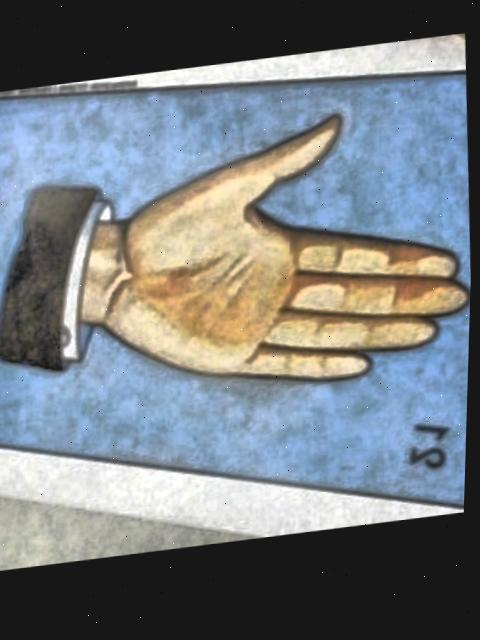La Mano: (0, 92, 473, 514)
